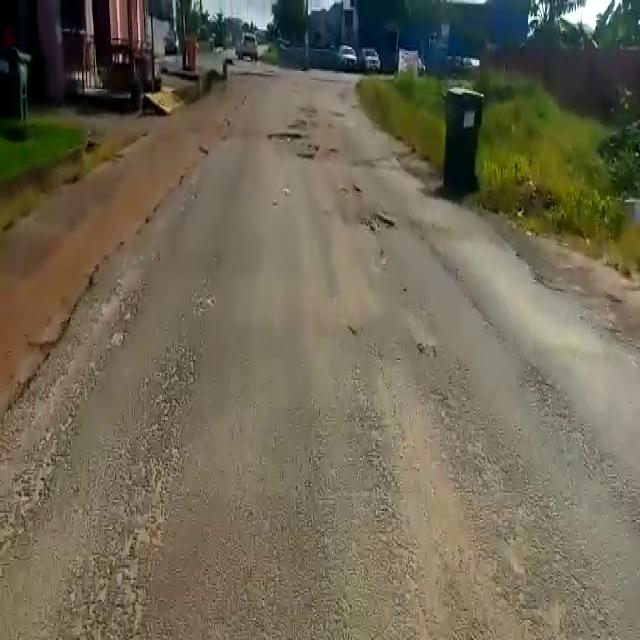Pothole: (264, 130, 308, 147), (366, 212, 394, 234)
